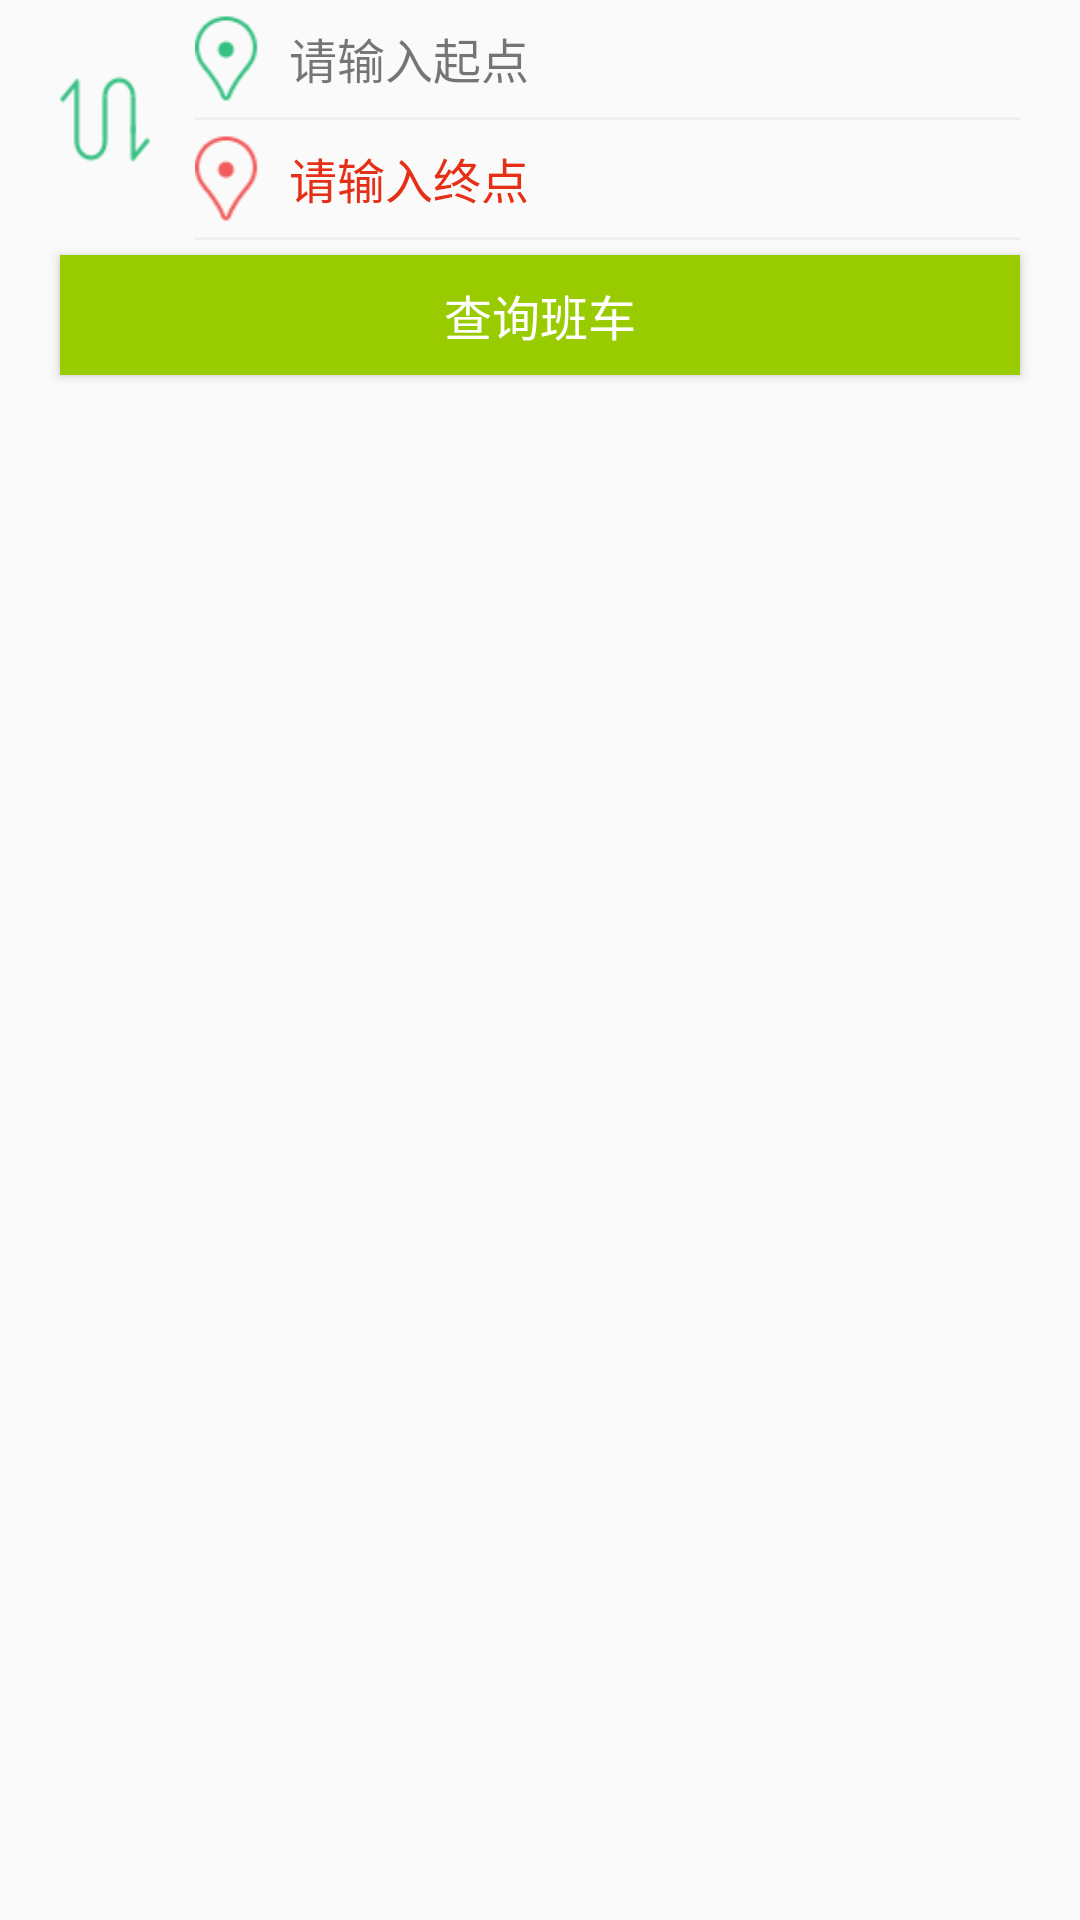

Icons on this 1080*1920 Android screen, each with the point to tap as (x,y):
change: (105,119)
end: (226,178)
start: (226,58)
